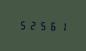five: (38, 19, 47, 31), (18, 19, 27, 30)
one: (58, 20, 67, 31)
six: (48, 20, 57, 31)
two: (28, 19, 37, 30)
